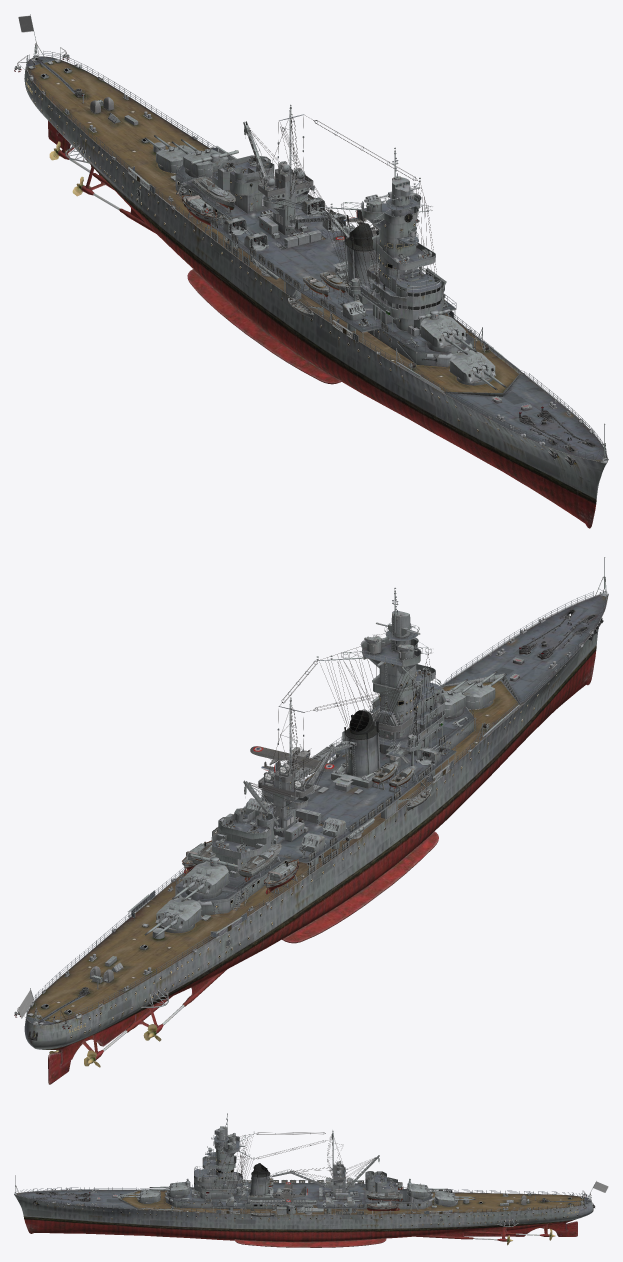
Rendered from algerie_war_thunder_sky_odyssey-maximum-compressed.glb.
The picture shows the model from 3 angles, top to bottom: view 1: azimuth 30°, elevation 25°; view 2: azimuth 150°, elevation 25°; view 3: azimuth 270°, elevation 25°; orthographic projection. The views are drawn at different scales.
Parts seen in each view (by area): view 1: Object_69, Object_21, Object_4, Object_83, Object_75, Object_64, Object_20, Object_67, Object_33, Object_66, Object_72, Object_73 (+11 smaller); view 2: Object_21, Object_69, Object_4, Object_83, Object_75, Object_64, Object_20, Object_72, Object_32, Object_67, Object_65, Object_68 (+13 smaller); view 3: Object_69, Object_83, Object_21, Object_4, Object_75, Object_64, Object_20, Object_72, Object_66, Object_67, Object_65, Object_33 (+14 smaller).
Boxes of the visible parts, x1,y1,x2,y2 form: Object_69: [18, 14, 608, 502]; Object_21: [26, 51, 606, 461]; Object_4: [27, 60, 518, 392]; Object_83: [48, 121, 596, 528]; Object_75: [26, 55, 596, 502]; Object_64: [348, 254, 446, 334]; Object_20: [15, 47, 474, 348]; Object_67: [281, 120, 432, 267]; Object_33: [419, 314, 495, 383]; Object_66: [267, 261, 476, 367]; Object_72: [334, 235, 520, 396]; Object_73: [258, 182, 314, 238]; Object_21: [26, 591, 607, 1025]; Object_69: [18, 557, 608, 1049]; Object_4: [27, 681, 518, 1023]; Object_83: [48, 650, 596, 1084]; Object_75: [32, 609, 596, 1046]; Object_64: [370, 678, 446, 771]; Object_20: [15, 646, 474, 1027]; Object_72: [331, 664, 520, 788]; Object_32: [155, 861, 229, 930]; Object_67: [281, 622, 431, 724]; Object_65: [175, 805, 370, 915]; Object_68: [212, 808, 274, 859]; Object_69: [14, 1175, 595, 1231]; Object_83: [24, 1218, 577, 1247]; Object_21: [16, 1138, 590, 1214]; Object_4: [122, 1190, 584, 1214]; Object_75: [23, 1188, 592, 1231]; Object_64: [194, 1166, 248, 1202]; Object_20: [178, 1132, 587, 1214]; Object_72: [117, 1155, 273, 1208]; Object_66: [164, 1183, 303, 1213]; Object_67: [205, 1131, 323, 1165]; Object_65: [315, 1187, 433, 1214]; Object_33: [137, 1181, 190, 1202].
Bounding box in the file's own units: 27.72 × 43.79 × 191.
34 materials, 34 textured.
